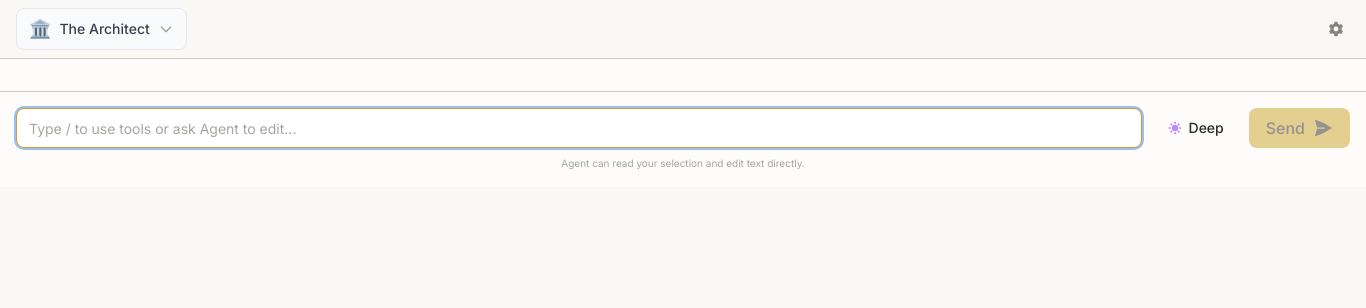
Test: ChatInterface › shows a fallback error message when sending fails
Type "Fail this" into the field with placeholder "Type / to use tools or ask Agent to edit..." at (579,128), box 16,108 -> 1142,148
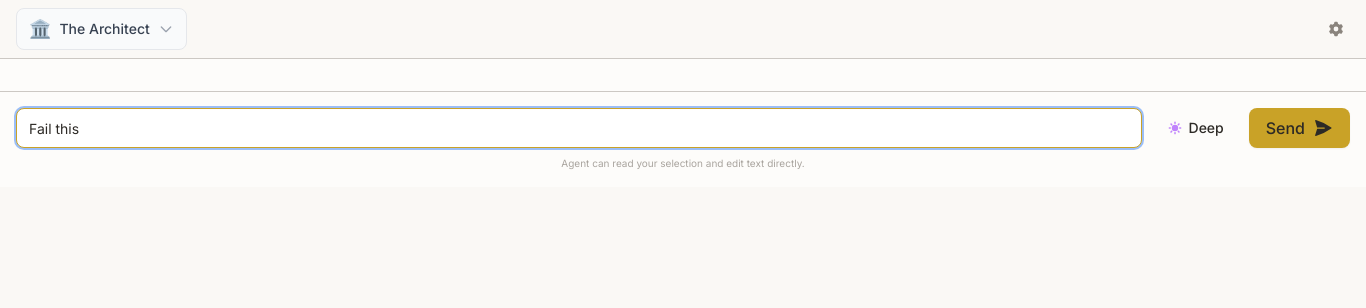
Press Enter in the field with placeholder "Type / to use tools or ask Agent to edit...", box 16,108 -> 1142,148
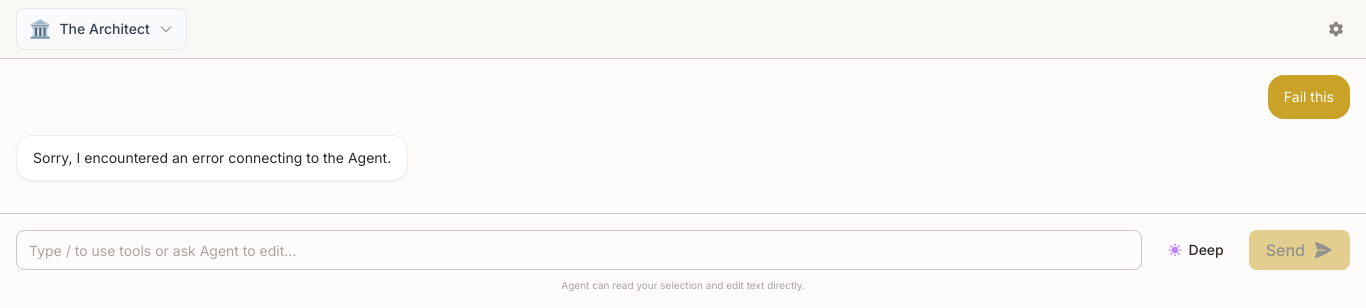
Check: the text "Sorry, I encountered an error connecting to the Agent." is shown, box 16,135 -> 408,181
